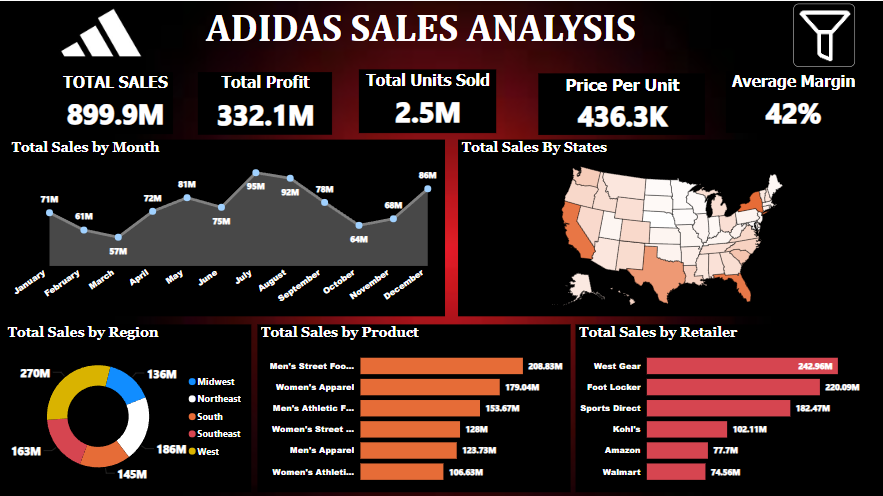

The dashboard page shown, as its layout file describes it:
{"tool":"powerbi","page":{"name":"Page 1","canvas":[1280,720],"ordinal":0},"visuals":[{"type":"textbox","box":[292,0,978.3,91.6],"z":0},{"type":"barChart","title":"Total Sales by Retailer","fields":{"Y":["Sum(Data Sales Adidas.Total Sales)"],"Category":["Data Sales Adidas.Retailer"]},"box":[835.5,468.9,434.8,242.9],"z":0,"group":"g1"},{"type":"card","title":"Total Units Sold","fields":{"Values":["Sum(Data Sales Adidas.Units Sold)"]},"box":[520.9,99.2,198.2,91.6],"z":1000},{"type":"donutChart","title":"Total Sales by Region","fields":{"Y":["Sum(Data Sales Adidas.Total Sales)"],"Series":["Data Sales Adidas.Region"]},"box":[6.4,468.9,358,242.9],"z":1000,"group":"g1"},{"type":"card","title":" Price Per Unit","fields":{"Values":["Sum(Data Sales Adidas.Price per Unit)"]},"box":[780.9,104.5,240.8,89],"z":2000},{"type":"shapeMap","title":"Total Sales By States","fields":{"Category":["Data Sales Adidas.State"],"Value":["Sum(Data Sales Adidas.Total Sales)"]},"box":[663.9,200.7,606.5,255.8],"z":3000},{"type":"card","title":"Total Profit","fields":{"Values":["Sum(Data Sales Adidas.Operating Profit)"]},"box":[287.1,103.9,193.9,90],"z":4000},{"type":"areaChart","title":"Total Sales by Month","fields":{"Category":["Data Sales Adidas.Invoice Date.Variation.Date Hierarchy.Month"],"Y":["Sum(Data Sales Adidas.Total Sales)"]},"box":[10.7,200.3,633,255.8],"z":5000},{"type":"card","title":"TOTAL SALES","fields":{"Values":["Sum(Data Sales Adidas.Total Sales)"]},"box":[81.6,103.5,168.3,89.5],"z":6000},{"type":"barChart","title":"Total Sales by Product","fields":{"Y":["Sum(Data Sales Adidas.Total Sales)"],"Category":["Data Sales Adidas.Product"]},"box":[373,468.9,454,242.9],"z":7000},{"type":"card","title":"Average Margin","fields":{"Values":["Avg(Data Sales Adidas.Operating Margin)"]},"box":[1051.3,101,193.9,89.5],"z":8000},{"type":"image","box":[0,0,291.1,101.4],"z":9000},{"type":"image","box":[1148.8,4.3,89.5,91.6],"z":10000},{"type":"group","id":"g1","title":"Group 1","box":[6.4,468.9,1263.8,242.9],"z":12000}]}

Visuals, with their boxes in screenshot pixels (x1, y1, x2, y2), scaled from the page's 1280x720 canvas onto the 883x496 screenshot:
textbox: [201, 0, 876, 63]
"Total Sales by Retailer" barChart: [576, 323, 876, 490]
"Total Units Sold" card: [359, 68, 496, 131]
"Total Sales by Region" donutChart: [4, 323, 251, 490]
" Price Per Unit" card: [539, 72, 705, 133]
"Total Sales By States" shapeMap: [458, 138, 876, 314]
"Total Profit" card: [198, 72, 332, 134]
"Total Sales by Month" areaChart: [7, 138, 444, 314]
"TOTAL SALES" card: [56, 71, 172, 133]
"Total Sales by Product" barChart: [257, 323, 571, 490]
"Average Margin" card: [725, 70, 859, 131]
image: [0, 0, 201, 70]
image: [792, 3, 854, 66]
"Group 1" group: [4, 323, 876, 490]
